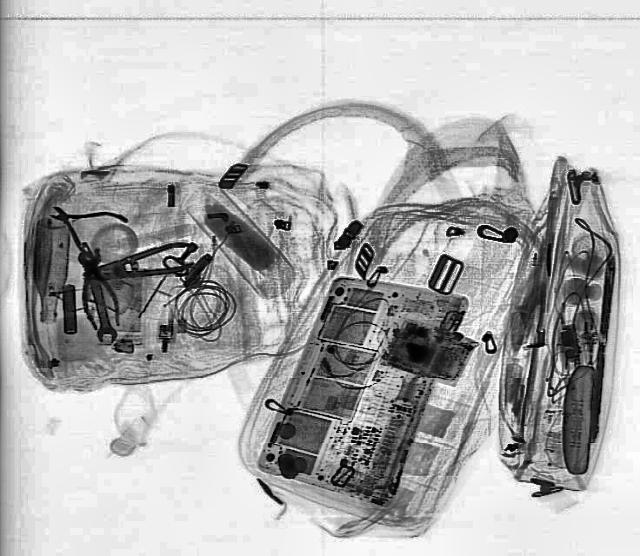Pliers: (30, 186, 134, 266), (77, 238, 199, 290), (65, 239, 122, 329)
Wrench: (72, 252, 118, 344)
